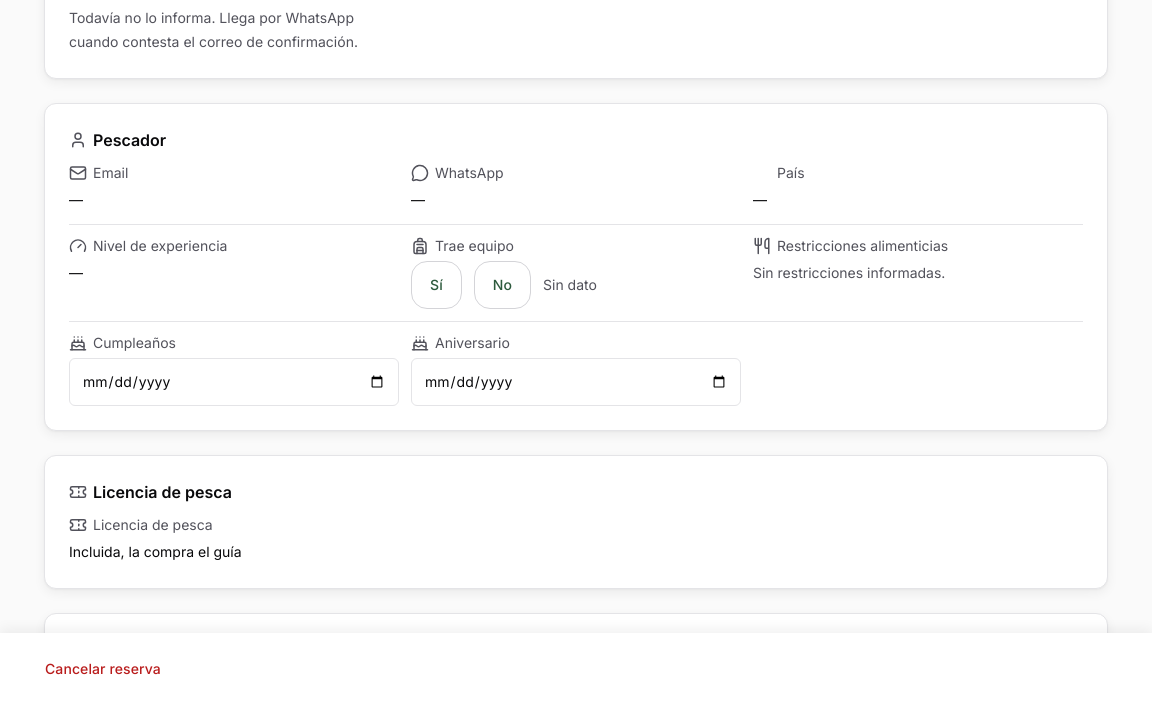
Test: Ficha del pescador: guardar › sin eco (Lambda anterior): avisa que no se guardó y deja el cambio en pantalla
This screenshot has width=1152, height=705.
(page scrolled)
Click the button "Sí": (436, 285) 411,261 -> 462,309
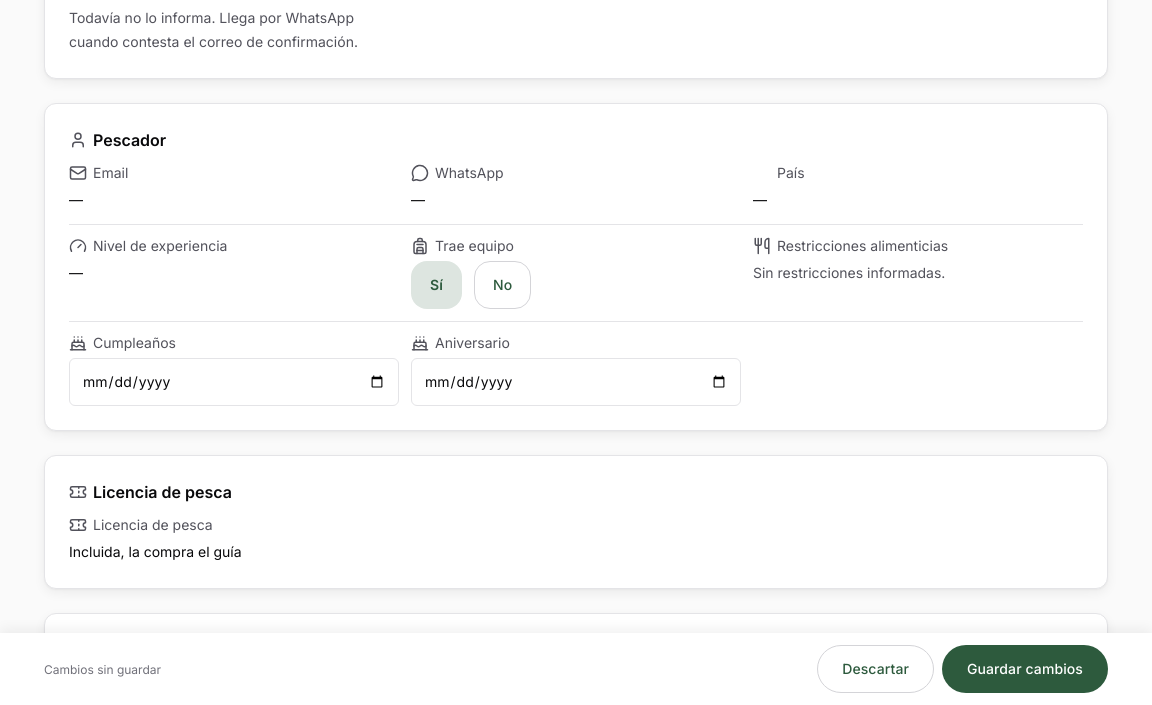
Click the button "Guardar cambios": (1025, 669) 942,645 -> 1108,693
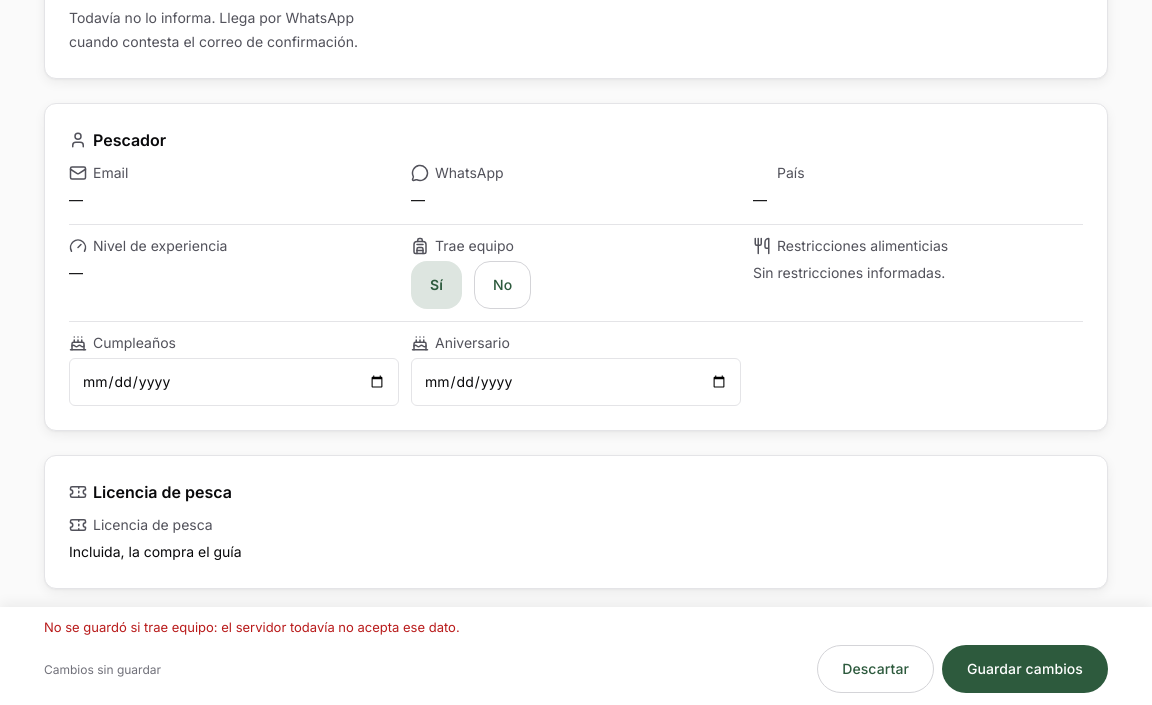
Expected: the button "Guardar cambios" is shown, 942,645 -> 1108,693
Expected: the message "No se guardó si trae equipo: el servidor todavía no acepta ese dato." is shown, 44,619 -> 460,635
